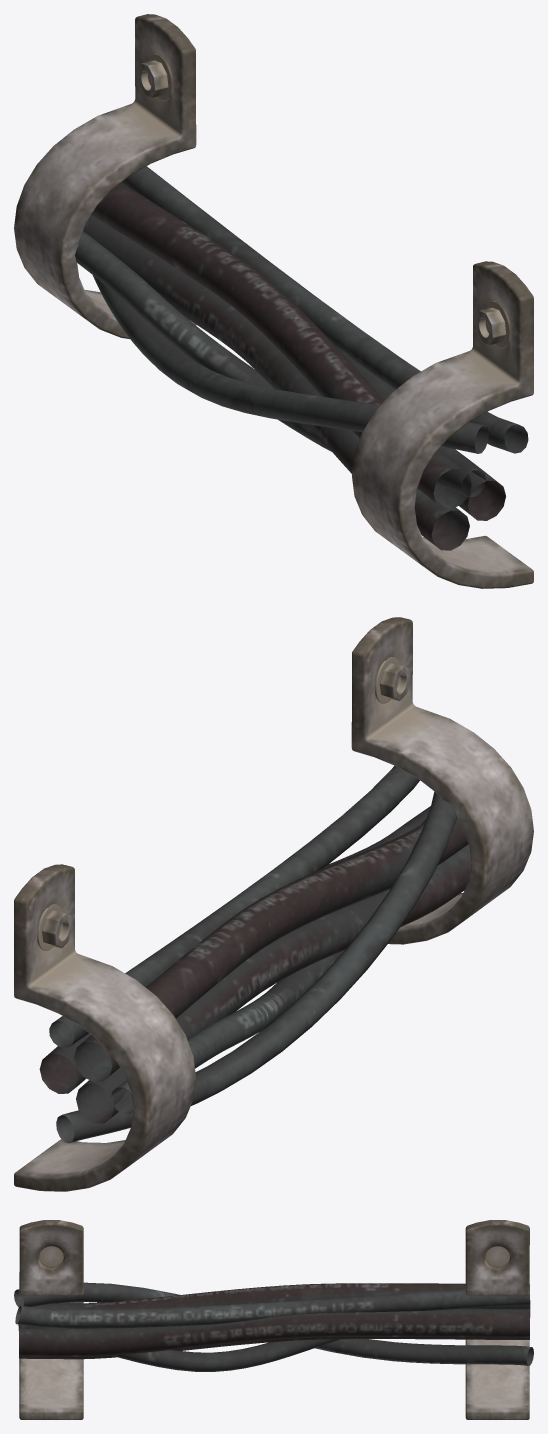
The model's file is SM_Cable_Set_04a.fbx.
3 renders of one model, top to bottom at view 1: azimuth 30°, elevation 25°; view 2: azimuth 150°, elevation 25°; view 3: azimuth 270°, elevation 25°, orthographic. The views are drawn at different scales.
Visible parts, largest first — view 1: SM_Cable_Set_04a_LOD0; view 2: SM_Cable_Set_04a_LOD0; view 3: SM_Cable_Set_04a_LOD0.
Boxes of the visible parts, x1,y1,x2,y2 form: SM_Cable_Set_04a_LOD0: (14, 14, 533, 588); SM_Cable_Set_04a_LOD0: (14, 617, 533, 1191); SM_Cable_Set_04a_LOD0: (14, 1220, 533, 1419).
Bounding box in the file's own units: 10.15 × 50.88 × 21.2.
